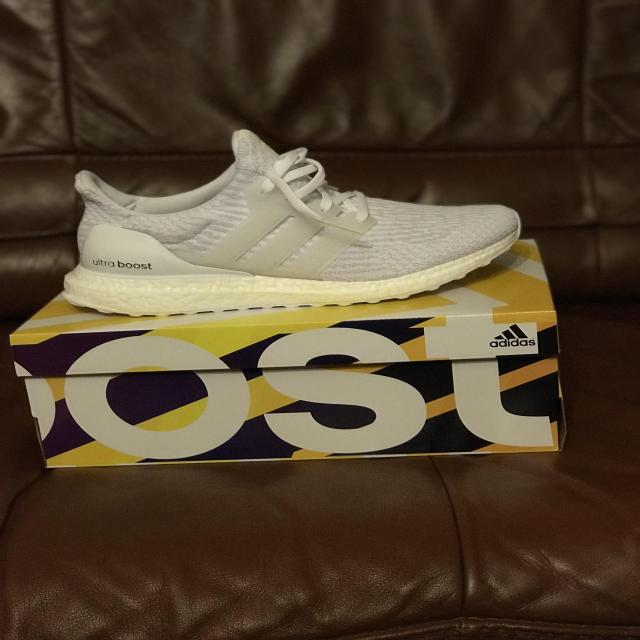shoe: (39, 119, 535, 324)
